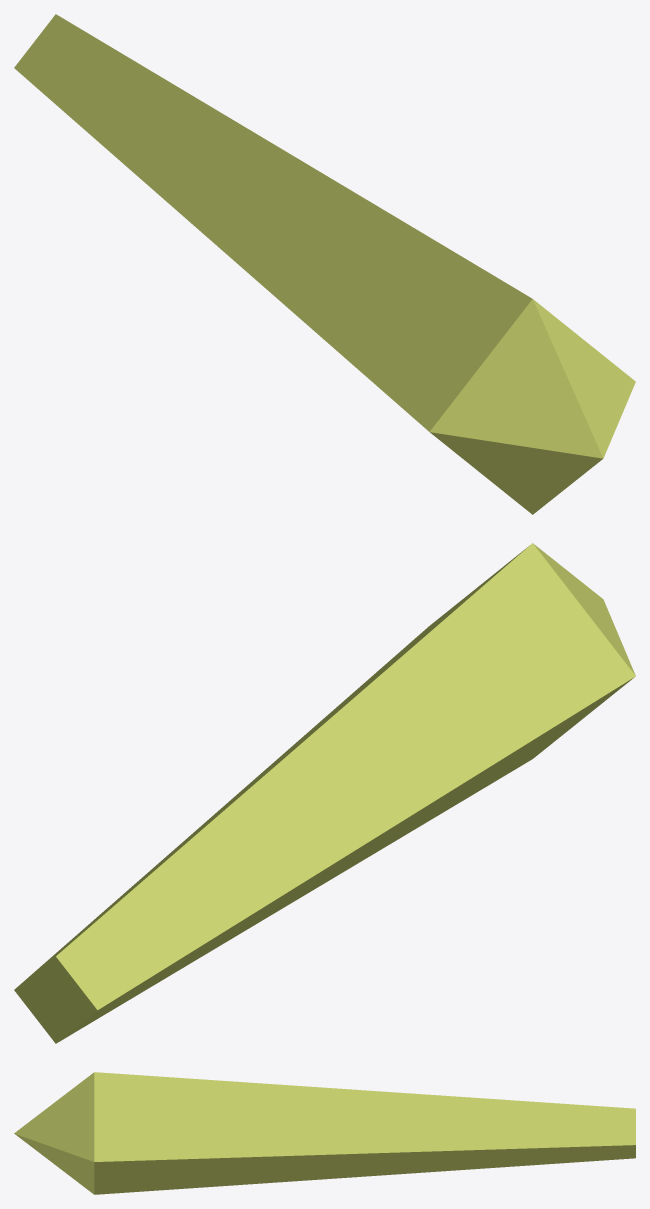
File: shot.fbx
3 views of the same model, one above another, from view 1: azimuth 30°, elevation 25°; view 2: azimuth 150°, elevation 25°; view 3: azimuth 270°, elevation 25° (orthographic). The views are drawn at different scales.
Parts seen in each view (by area): view 1: Shot; view 2: Shot; view 3: Shot.
Boxes of the visible parts, x1,y1,x2,y2 form: Shot: (14, 14, 635, 514); Shot: (14, 543, 635, 1043); Shot: (14, 1072, 635, 1194).
Bounding box in the file's own units: 100 × 100 × 459.
